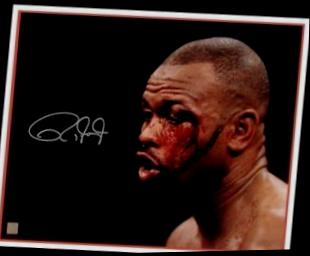Fire: (140, 105, 236, 190)
